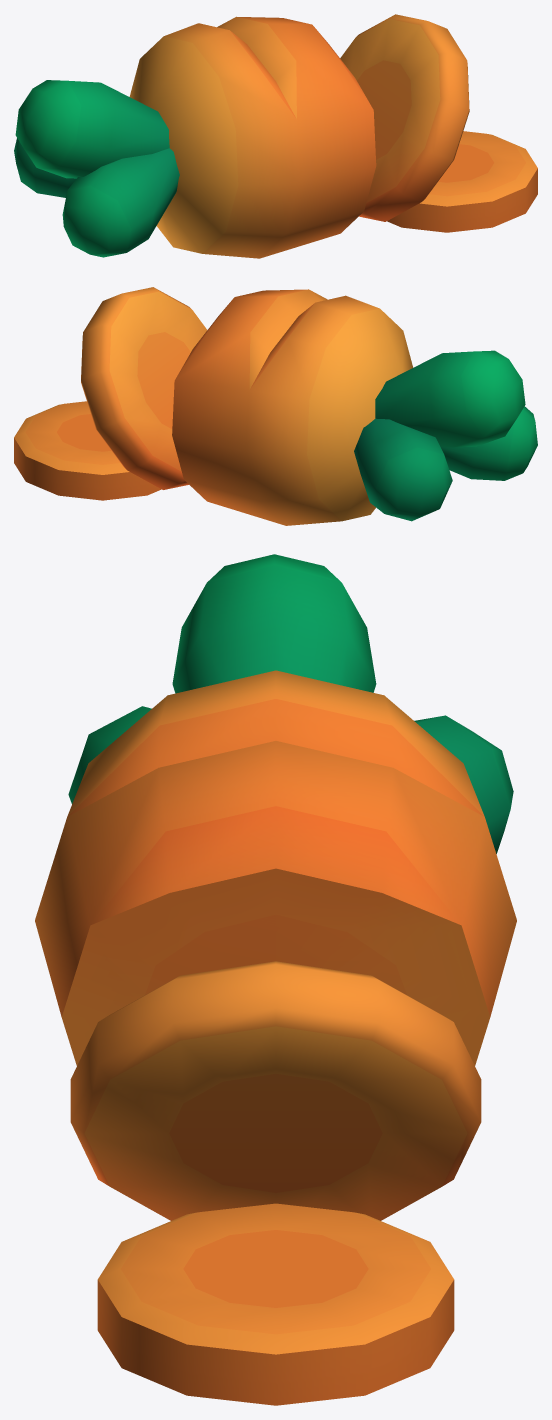
File: food_ingredient_carrot_chopped.obj
3 views of the same model, one above another, from view 1: azimuth 30°, elevation 25°; view 2: azimuth 150°, elevation 25°; view 3: azimuth 270°, elevation 25° (orthographic). The views are drawn at different scales.
Parts seen in each view (by area): view 1: food_ingredient_carrot_chopped_Cylinder.920; view 2: food_ingredient_carrot_chopped_Cylinder.920; view 3: food_ingredient_carrot_chopped_Cylinder.920.
Boxes of the visible parts, x1=… form: food_ingredient_carrot_chopped_Cylinder.920: x1=14, y1=14, x2=537, y2=258; food_ingredient_carrot_chopped_Cylinder.920: x1=14, y1=287, x2=537, y2=525; food_ingredient_carrot_chopped_Cylinder.920: x1=35, y1=554, x2=516, y2=1405.
Size of the model in its own units: 1.33 by 0.5587 by 0.5663.
Materials: 1 (1 with a texture image).
